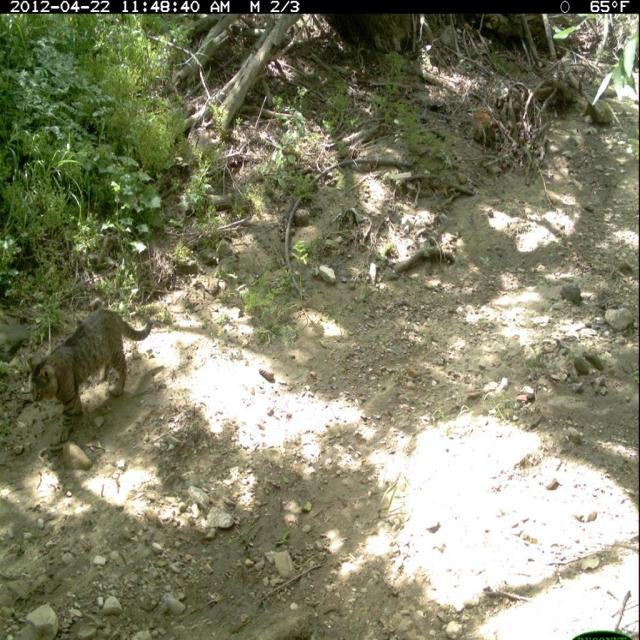cat: (20, 302, 161, 456)
